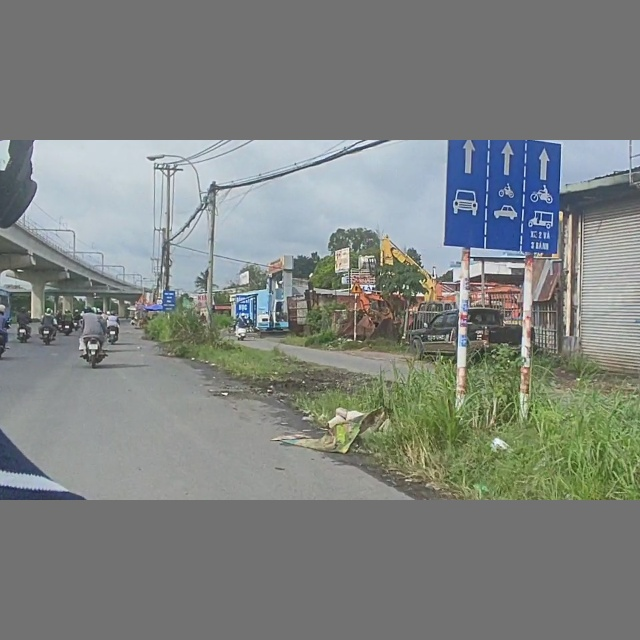R.415a: (442, 144, 567, 254)
W.207: (349, 281, 364, 294)
